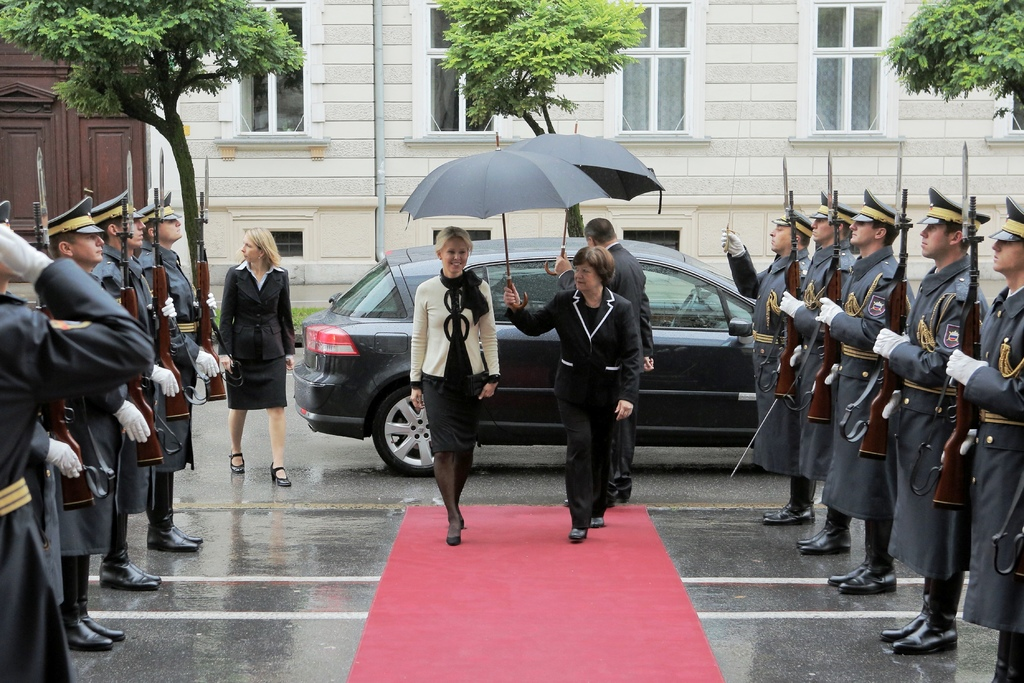cars: (294, 227, 766, 477)
